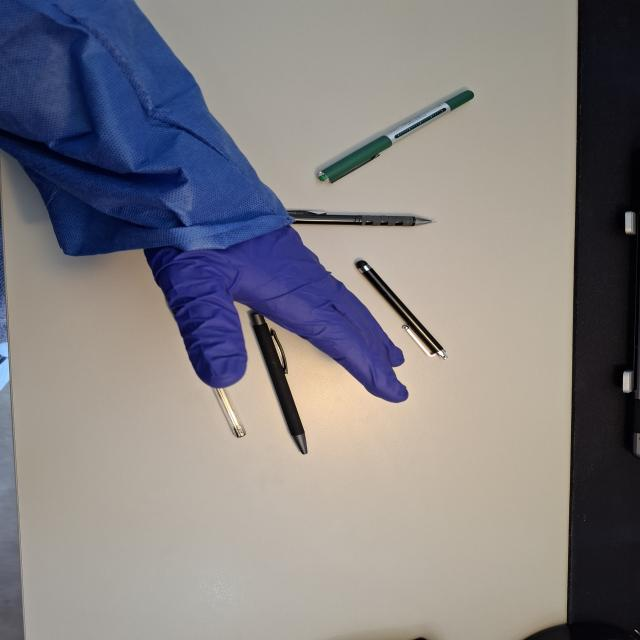glove_on: (139, 207, 412, 406)
